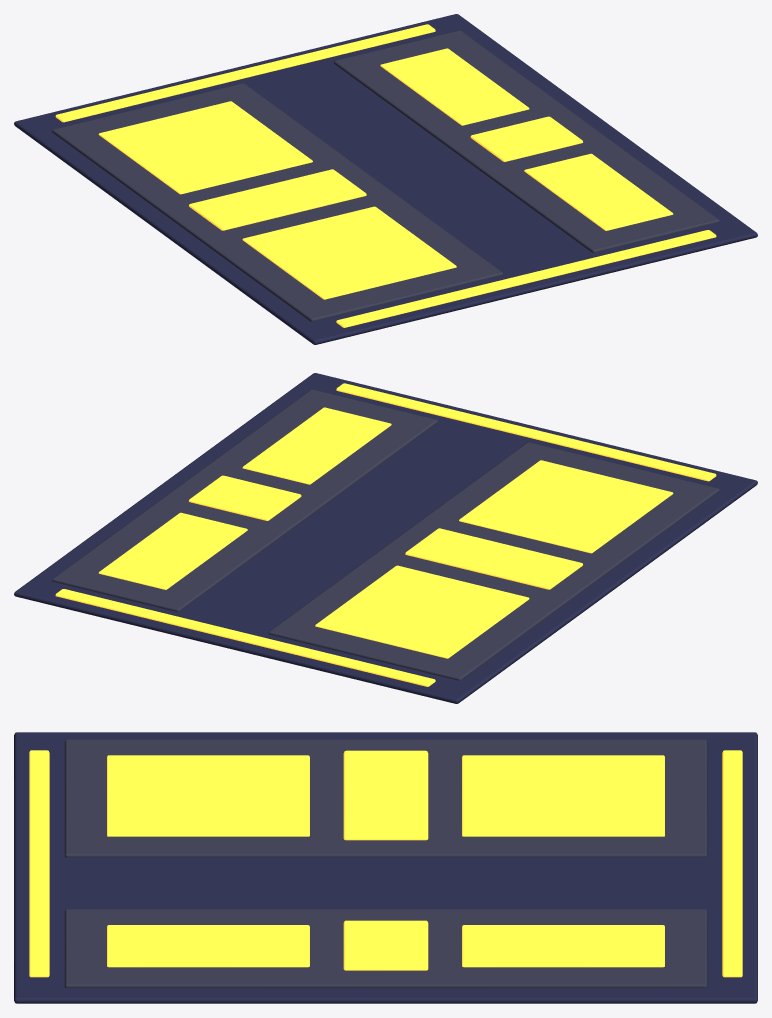
Rendered from int.threshold.l0.95.glb.
3 renders of one model, top to bottom at view 1: azimuth 30°, elevation 25°; view 2: azimuth 150°, elevation 25°; view 3: azimuth 270°, elevation 25°, orthographic. The views are drawn at different scales.
Visible parts, largest first — view 1: int.threshold.l0.95; view 2: int.threshold.l0.95; view 3: int.threshold.l0.95.
Boxes of the visible parts, bbox=[...] form: int.threshold.l0.95: bbox=[14, 14, 757, 344]; int.threshold.l0.95: bbox=[14, 373, 757, 703]; int.threshold.l0.95: bbox=[14, 732, 757, 1003].
Bounding box in the file's own units: 0.75 × 0.016 × 0.88.
